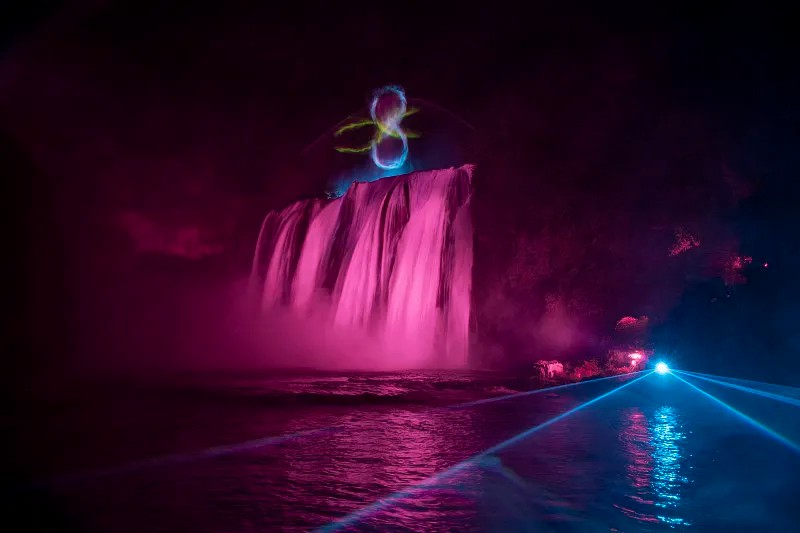Huangguoshu: (253, 164, 473, 367)
